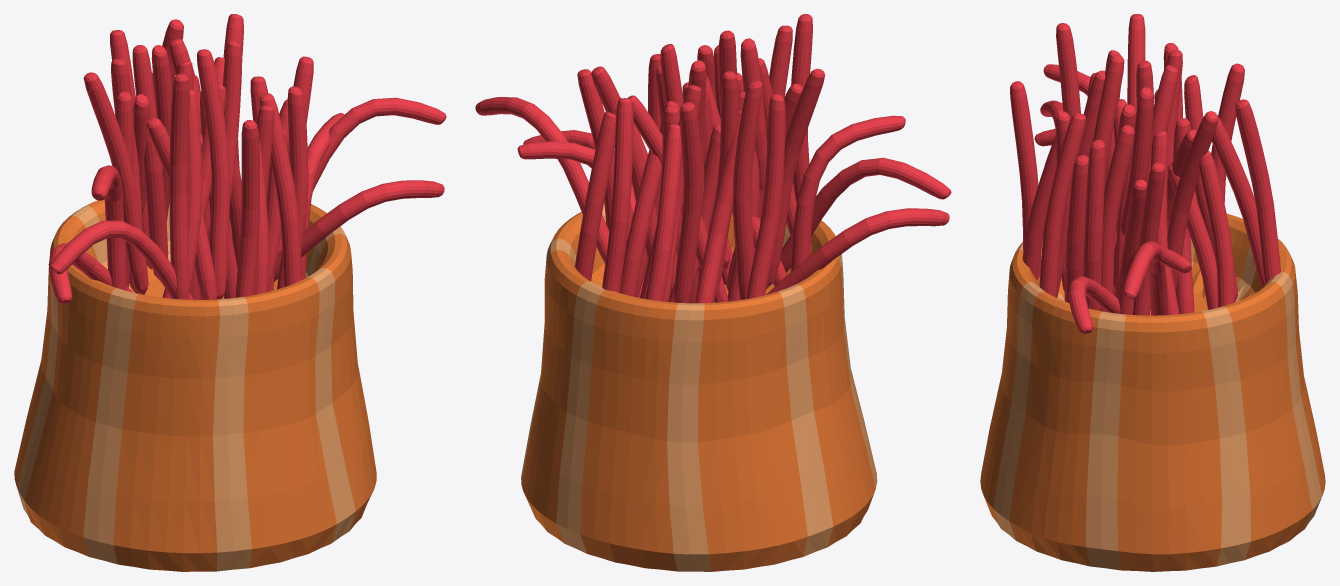
The model's file is SM_Anemone.fbx.
3 renders of one model, left to right at view 1: azimuth 30°, elevation 25°; view 2: azimuth 150°, elevation 25°; view 3: azimuth 270°, elevation 25°, orthographic. The views are drawn at different scales.
Visible parts, largest first — view 1: SM_Anemone; view 2: SM_Anemone; view 3: SM_Anemone.
Boxes of the visible parts, left/top/right/bottom form: SM_Anemone: left=14, top=14, right=446, bottom=571; SM_Anemone: left=475, top=14, right=951, bottom=571; SM_Anemone: left=980, top=14, right=1325, bottom=571.
Size of the model in its own units: 61.18 by 85.32 by 89.45.
